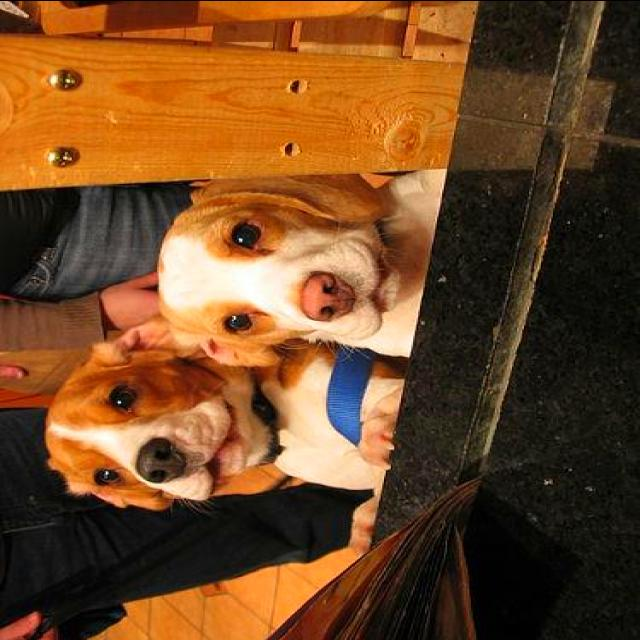beagle: (44, 316, 407, 558), (148, 172, 446, 368)
